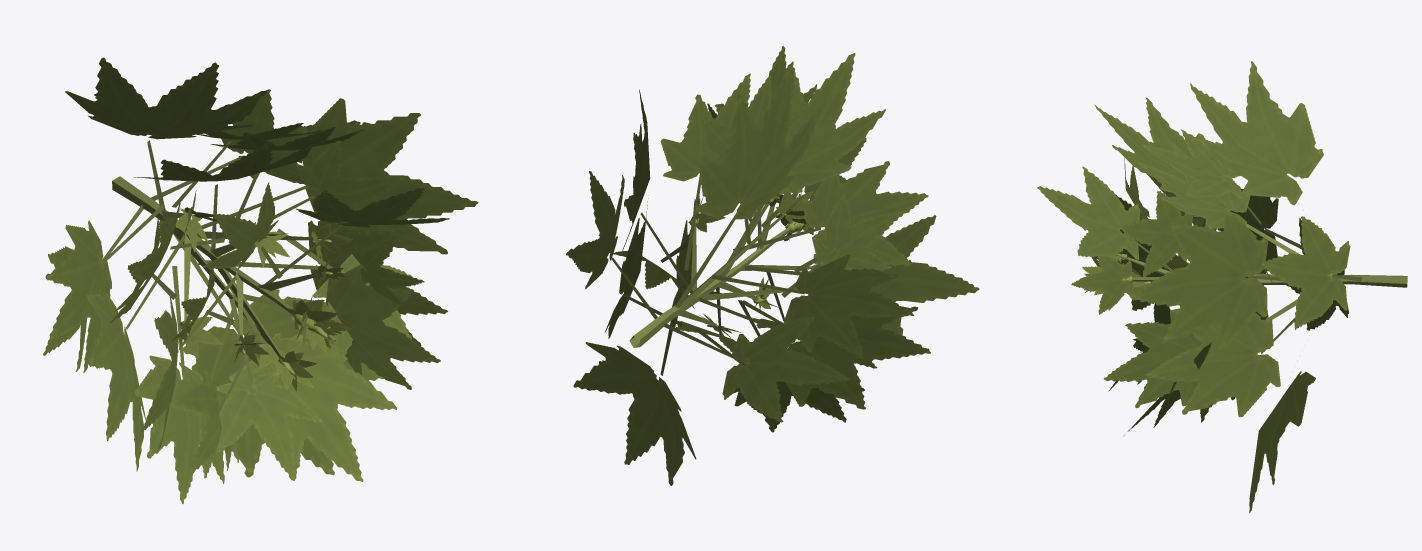
Rendered from p_kush_preflower_c1_cards.obj.
The picture shows the model from 3 angles, left to right: view 1: azimuth 30°, elevation 25°; view 2: azimuth 150°, elevation 25°; view 3: azimuth 270°, elevation 25°; orthographic projection. The views are drawn at different scales.
Size of the model in its own units: 1.17 by 1.49 by 1.11.
1 material, 1 textured.
